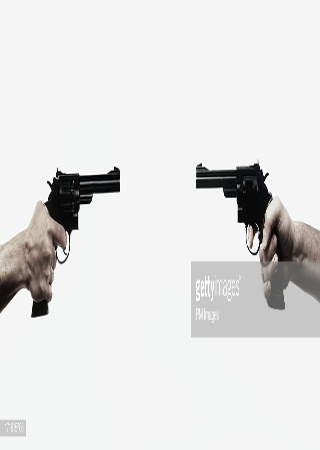handgun: (191, 160, 293, 314), (29, 164, 124, 319)
